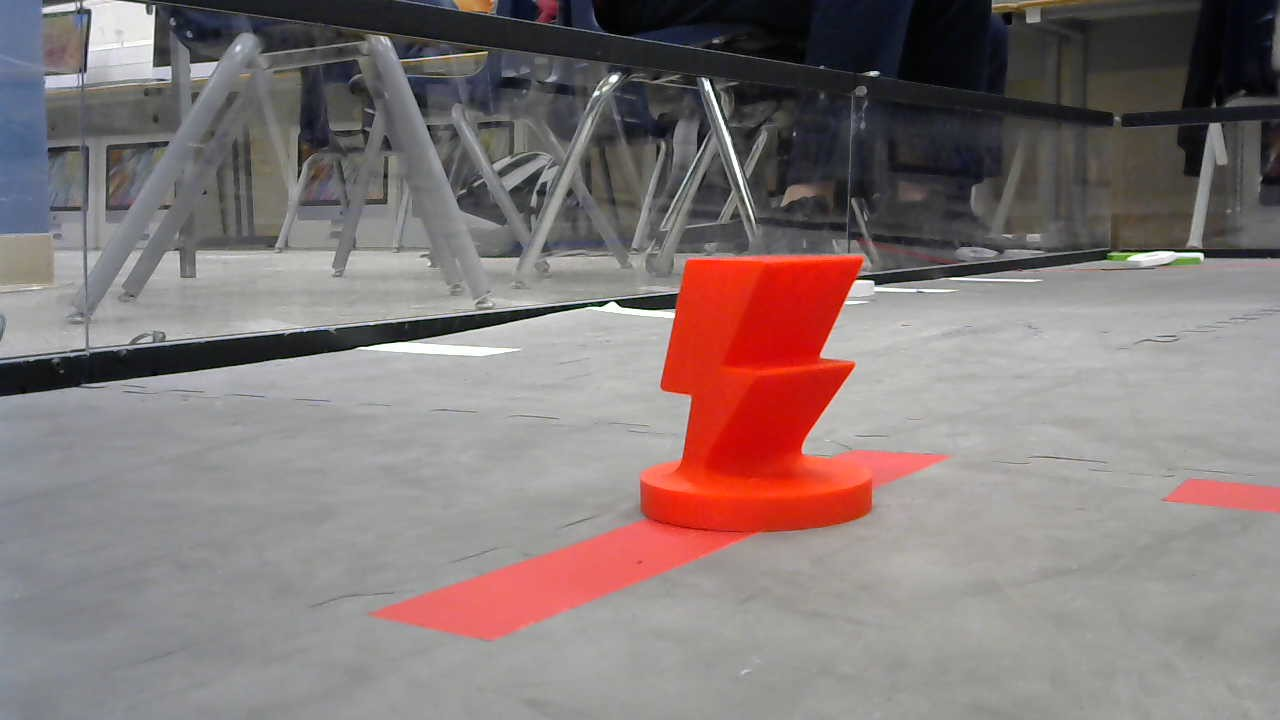redobject: (640, 255, 876, 532)
